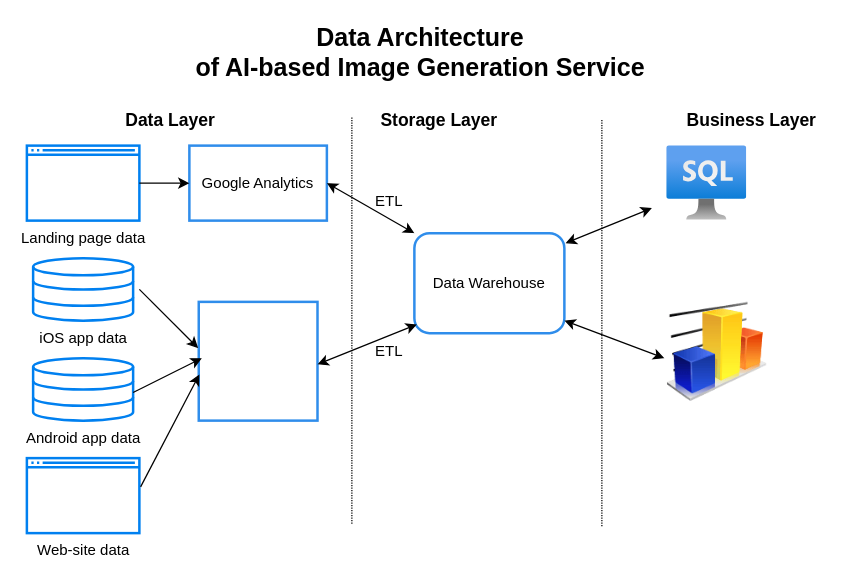
Some shapes in this 849 by 580 pixel diagram are drawn without their labels. Here are the shapes that lost their labels. From the top down, the centre of each, then its label:
(706,182): SQL Queries
(257,360): Amplitude/ Mixpanel
(716,351): BI-Solution (e.g. Tableau)
